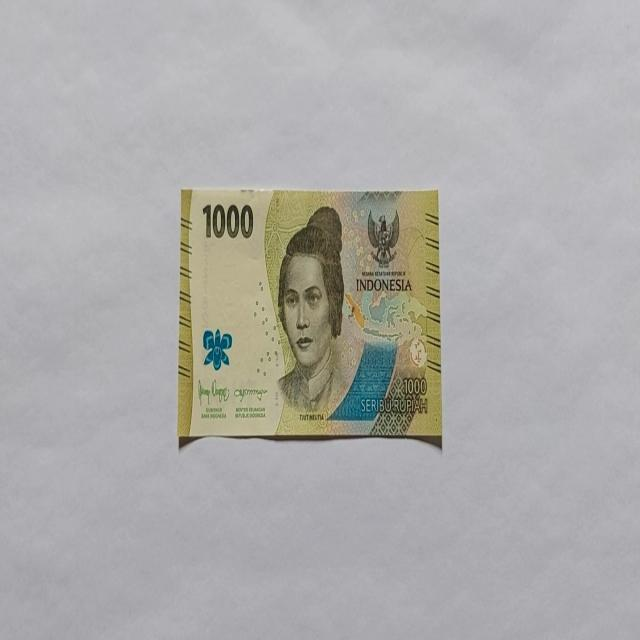seribu rupiah kertas: (176, 186, 442, 446)
